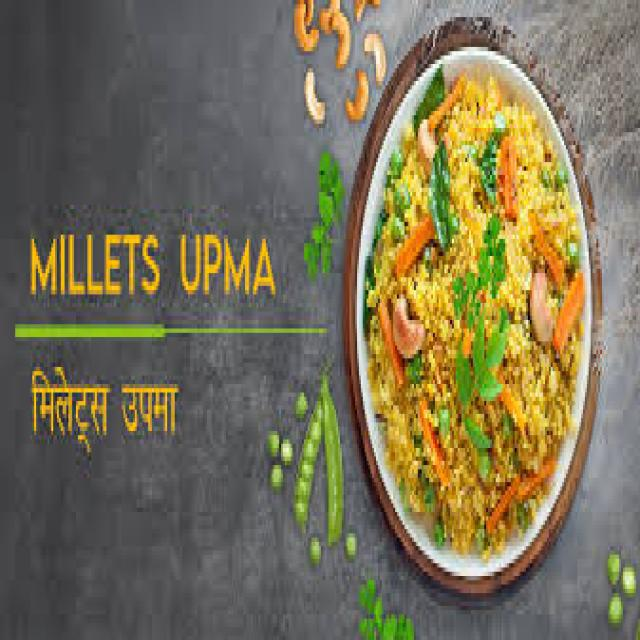UPMA: (365, 68, 579, 542)
